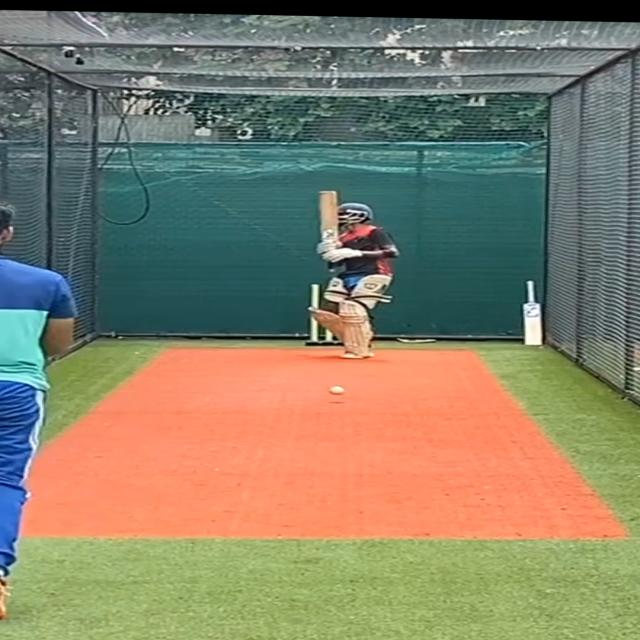ball: (326, 384, 350, 396)
stump: (306, 282, 338, 346)
